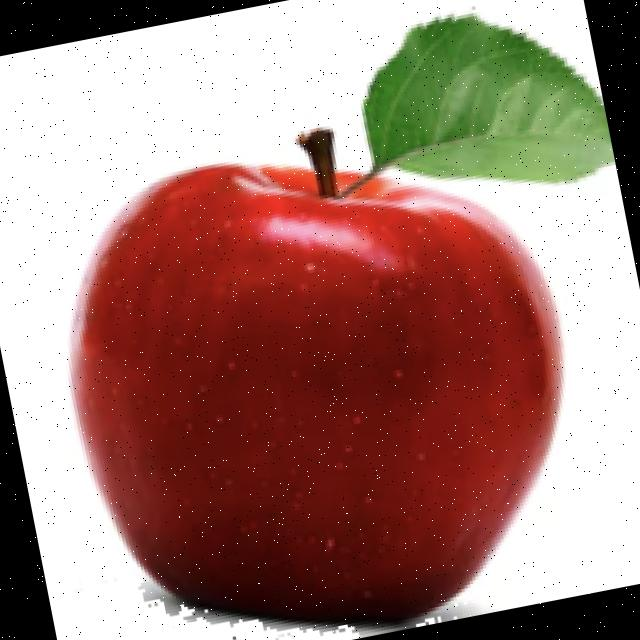apple: (65, 3, 612, 640)
